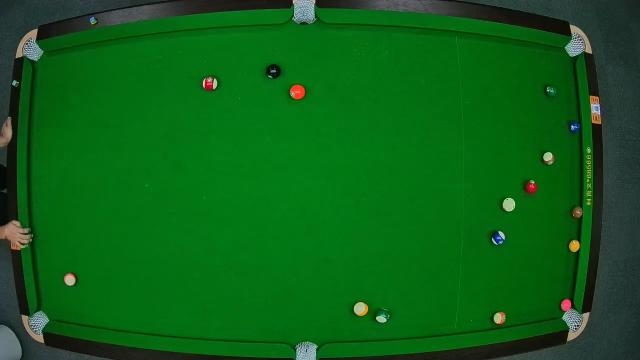bag1: (24, 40, 40, 62)
bag2: (292, 2, 316, 22)
bag3: (566, 34, 584, 56)
bag4: (27, 310, 49, 336)
bag5: (295, 342, 319, 360)
bag6: (562, 308, 584, 332)
ball0: (501, 196, 517, 214)
ball1: (566, 238, 580, 255)
ball10: (492, 229, 506, 246)
ball11: (200, 77, 218, 91)
ball12: (64, 272, 78, 288)
ball13: (492, 311, 508, 325), (560, 298, 572, 310)
ball14: (373, 308, 391, 324)
ball15: (540, 152, 556, 166)
ball2: (568, 119, 582, 135)
ball3: (524, 180, 538, 195)
ball5: (288, 84, 306, 100)
ball7: (572, 204, 586, 220)
ball8: (544, 82, 560, 98), (266, 64, 282, 80)
ball9: (352, 301, 370, 317)
